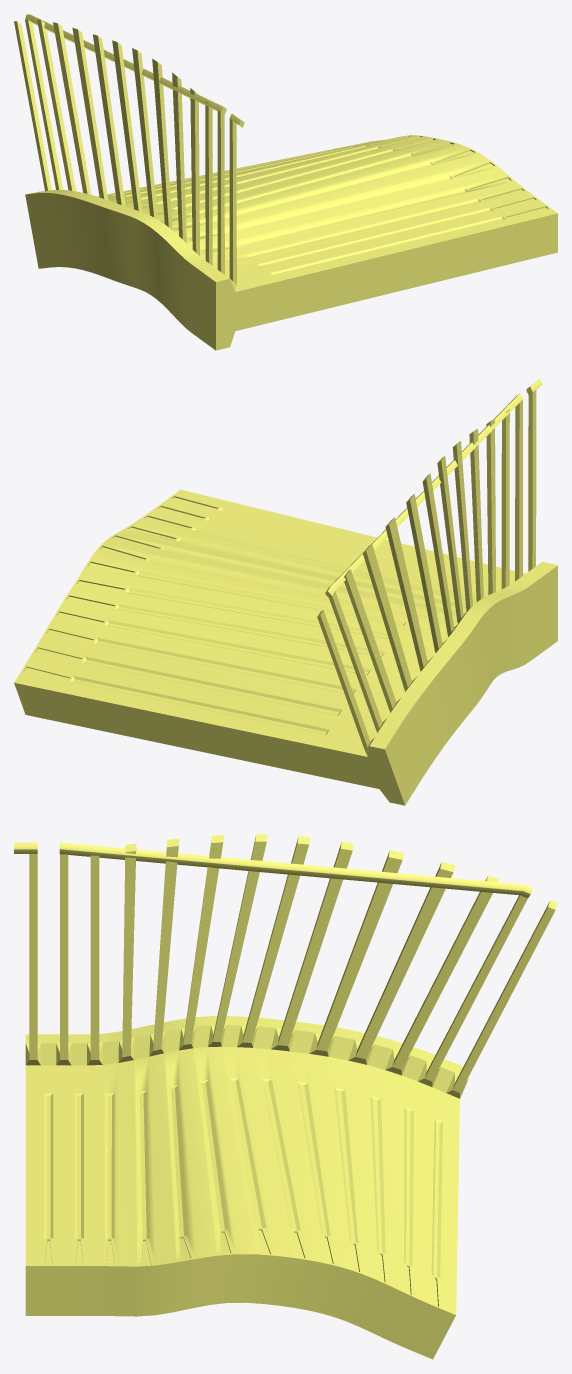
Rendered from bridge4.fbx.
3 views of the same model, one above another, from view 1: azimuth 30°, elevation 25°; view 2: azimuth 150°, elevation 25°; view 3: azimuth 270°, elevation 25° (orthographic). The views are drawn at different scales.
Visible parts, largest first — view 1: bridge035; view 2: bridge035; view 3: bridge035.
Part boxes in pixels (left/top/right/bottom): bridge035: left=14, top=14, right=557, bottom=350; bridge035: left=14, top=379, right=557, bottom=805; bridge035: left=14, top=834, right=557, bottom=1359.
Size of the model in its own units: 76.34 by 52.61 by 77.82.
